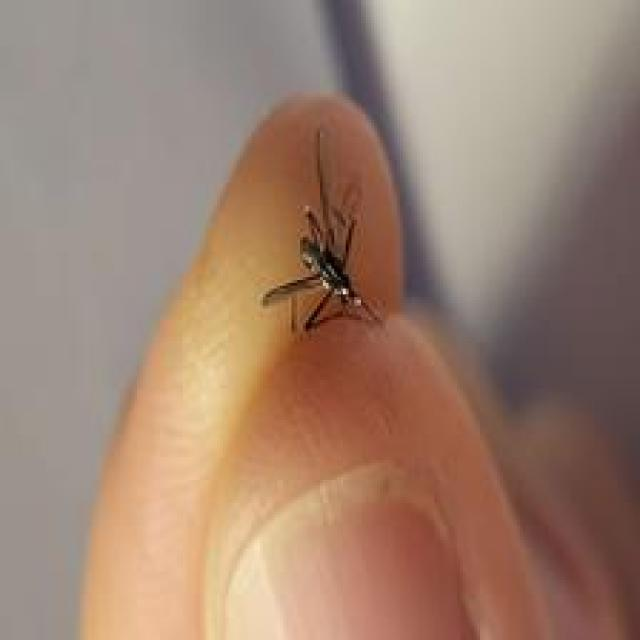Aedes albopictus: (260, 124, 386, 339)
